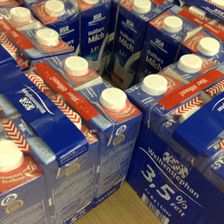milk: (10, 96, 101, 224), (59, 82, 147, 208), (1, 132, 54, 222), (114, 1, 167, 84), (141, 6, 196, 85), (124, 71, 199, 120), (32, 1, 84, 65), (160, 52, 224, 100), (79, 1, 115, 76), (5, 30, 80, 63), (1, 5, 43, 37)
